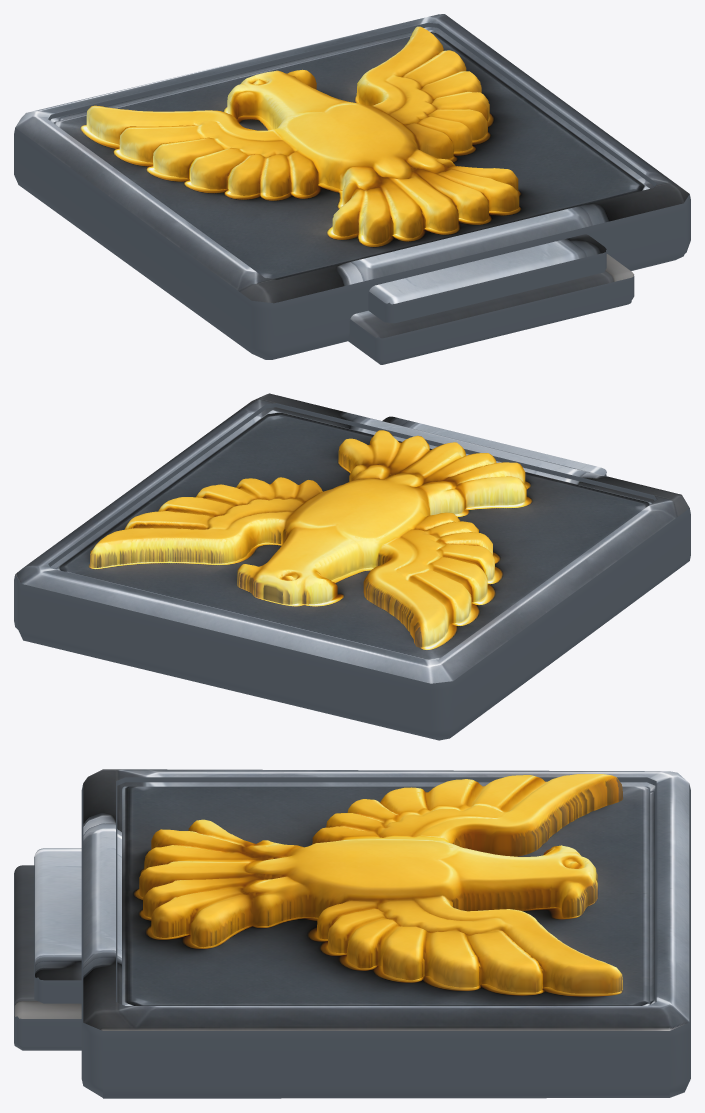
Rendered from eagle-photo.glb.
3 renders of one model, top to bottom at view 1: azimuth 30°, elevation 25°; view 2: azimuth 150°, elevation 25°; view 3: azimuth 270°, elevation 25°, orthographic. The views are drawn at different scales.
Visible parts, largest first — view 1: RoundedSlab, OriginalEagleRelief, InsetPanel, StepLower, StepUpper; view 2: RoundedSlab, OriginalEagleRelief, InsetPanel, StepUpper; view 3: RoundedSlab, OriginalEagleRelief, InsetPanel, StepUpper, StepLower.
Boxes of the visible parts, x1,y1,x2,y2 form: RoundedSlab: [14, 14, 690, 359]; OriginalEagleRelief: [86, 26, 519, 243]; InsetPanel: [53, 30, 649, 279]; StepLower: [347, 254, 634, 364]; StepUpper: [368, 234, 606, 323]; RoundedSlab: [14, 393, 690, 740]; OriginalEagleRelief: [90, 430, 526, 647]; InsetPanel: [55, 410, 651, 660]; StepUpper: [382, 416, 606, 475]; RoundedSlab: [81, 769, 690, 1098]; OriginalEagleRelief: [139, 774, 622, 993]; InsetPanel: [122, 786, 650, 1005]; StepUpper: [34, 848, 81, 1003]; StepLower: [14, 865, 81, 1050].
Bounding box in the file's own units: 1 × 0.213 × 1.11.
3 materials, 2 textured.
